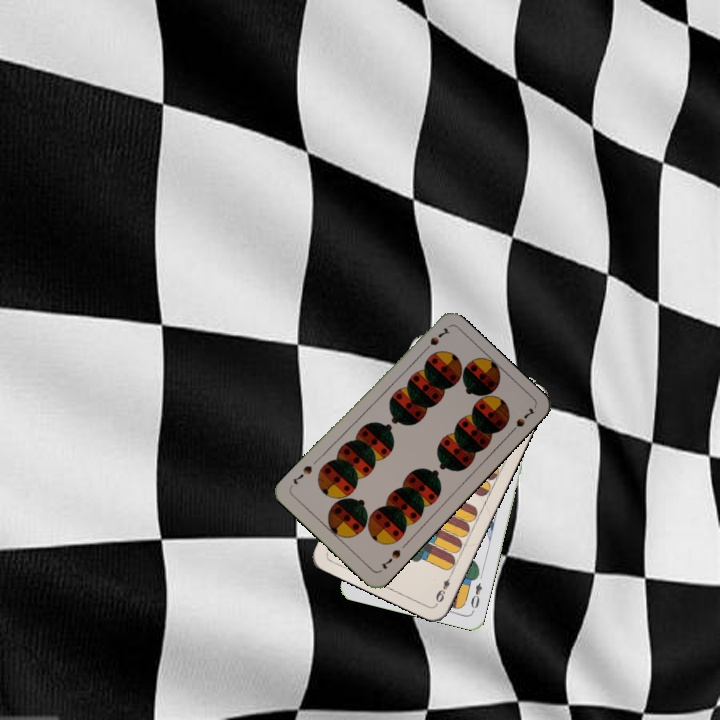E9: (432, 568, 456, 605)
EO: (467, 579, 485, 611)
S7: (377, 545, 403, 572), (418, 332, 441, 356)
